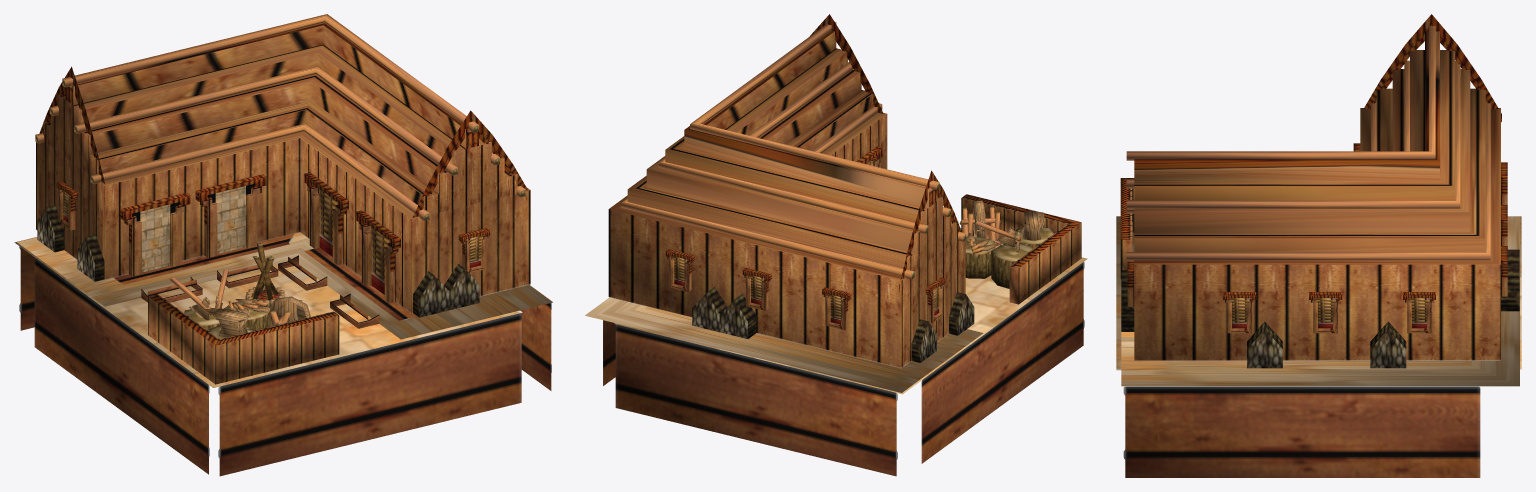
Rendered from forge.dae.
3 views of the same model, side by side, from view 1: azimuth 30°, elevation 25°; view 2: azimuth 150°, elevation 25°; view 3: azimuth 270°, elevation 25° (orthographic). The views are drawn at different scales.
Visible parts, largest first — view 1: forge; view 2: forge; view 3: forge.
Boxes of the visible parts, x1,y1,x2,y2 form: forge: (14,14,552,476); forge: (585,14,1087,476); forge: (1116,14,1521,477).
Bounding box in the file's own units: 18.86 × 18.98 × 15.52.
